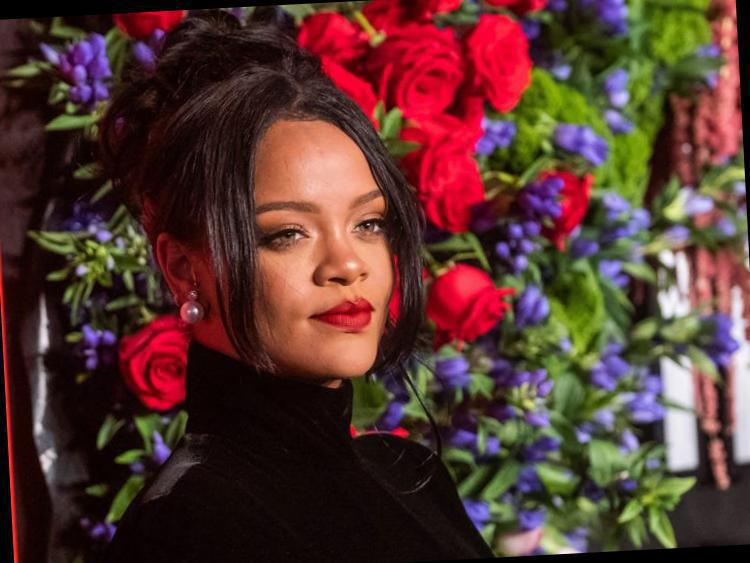Sober: (245, 128, 394, 368)
